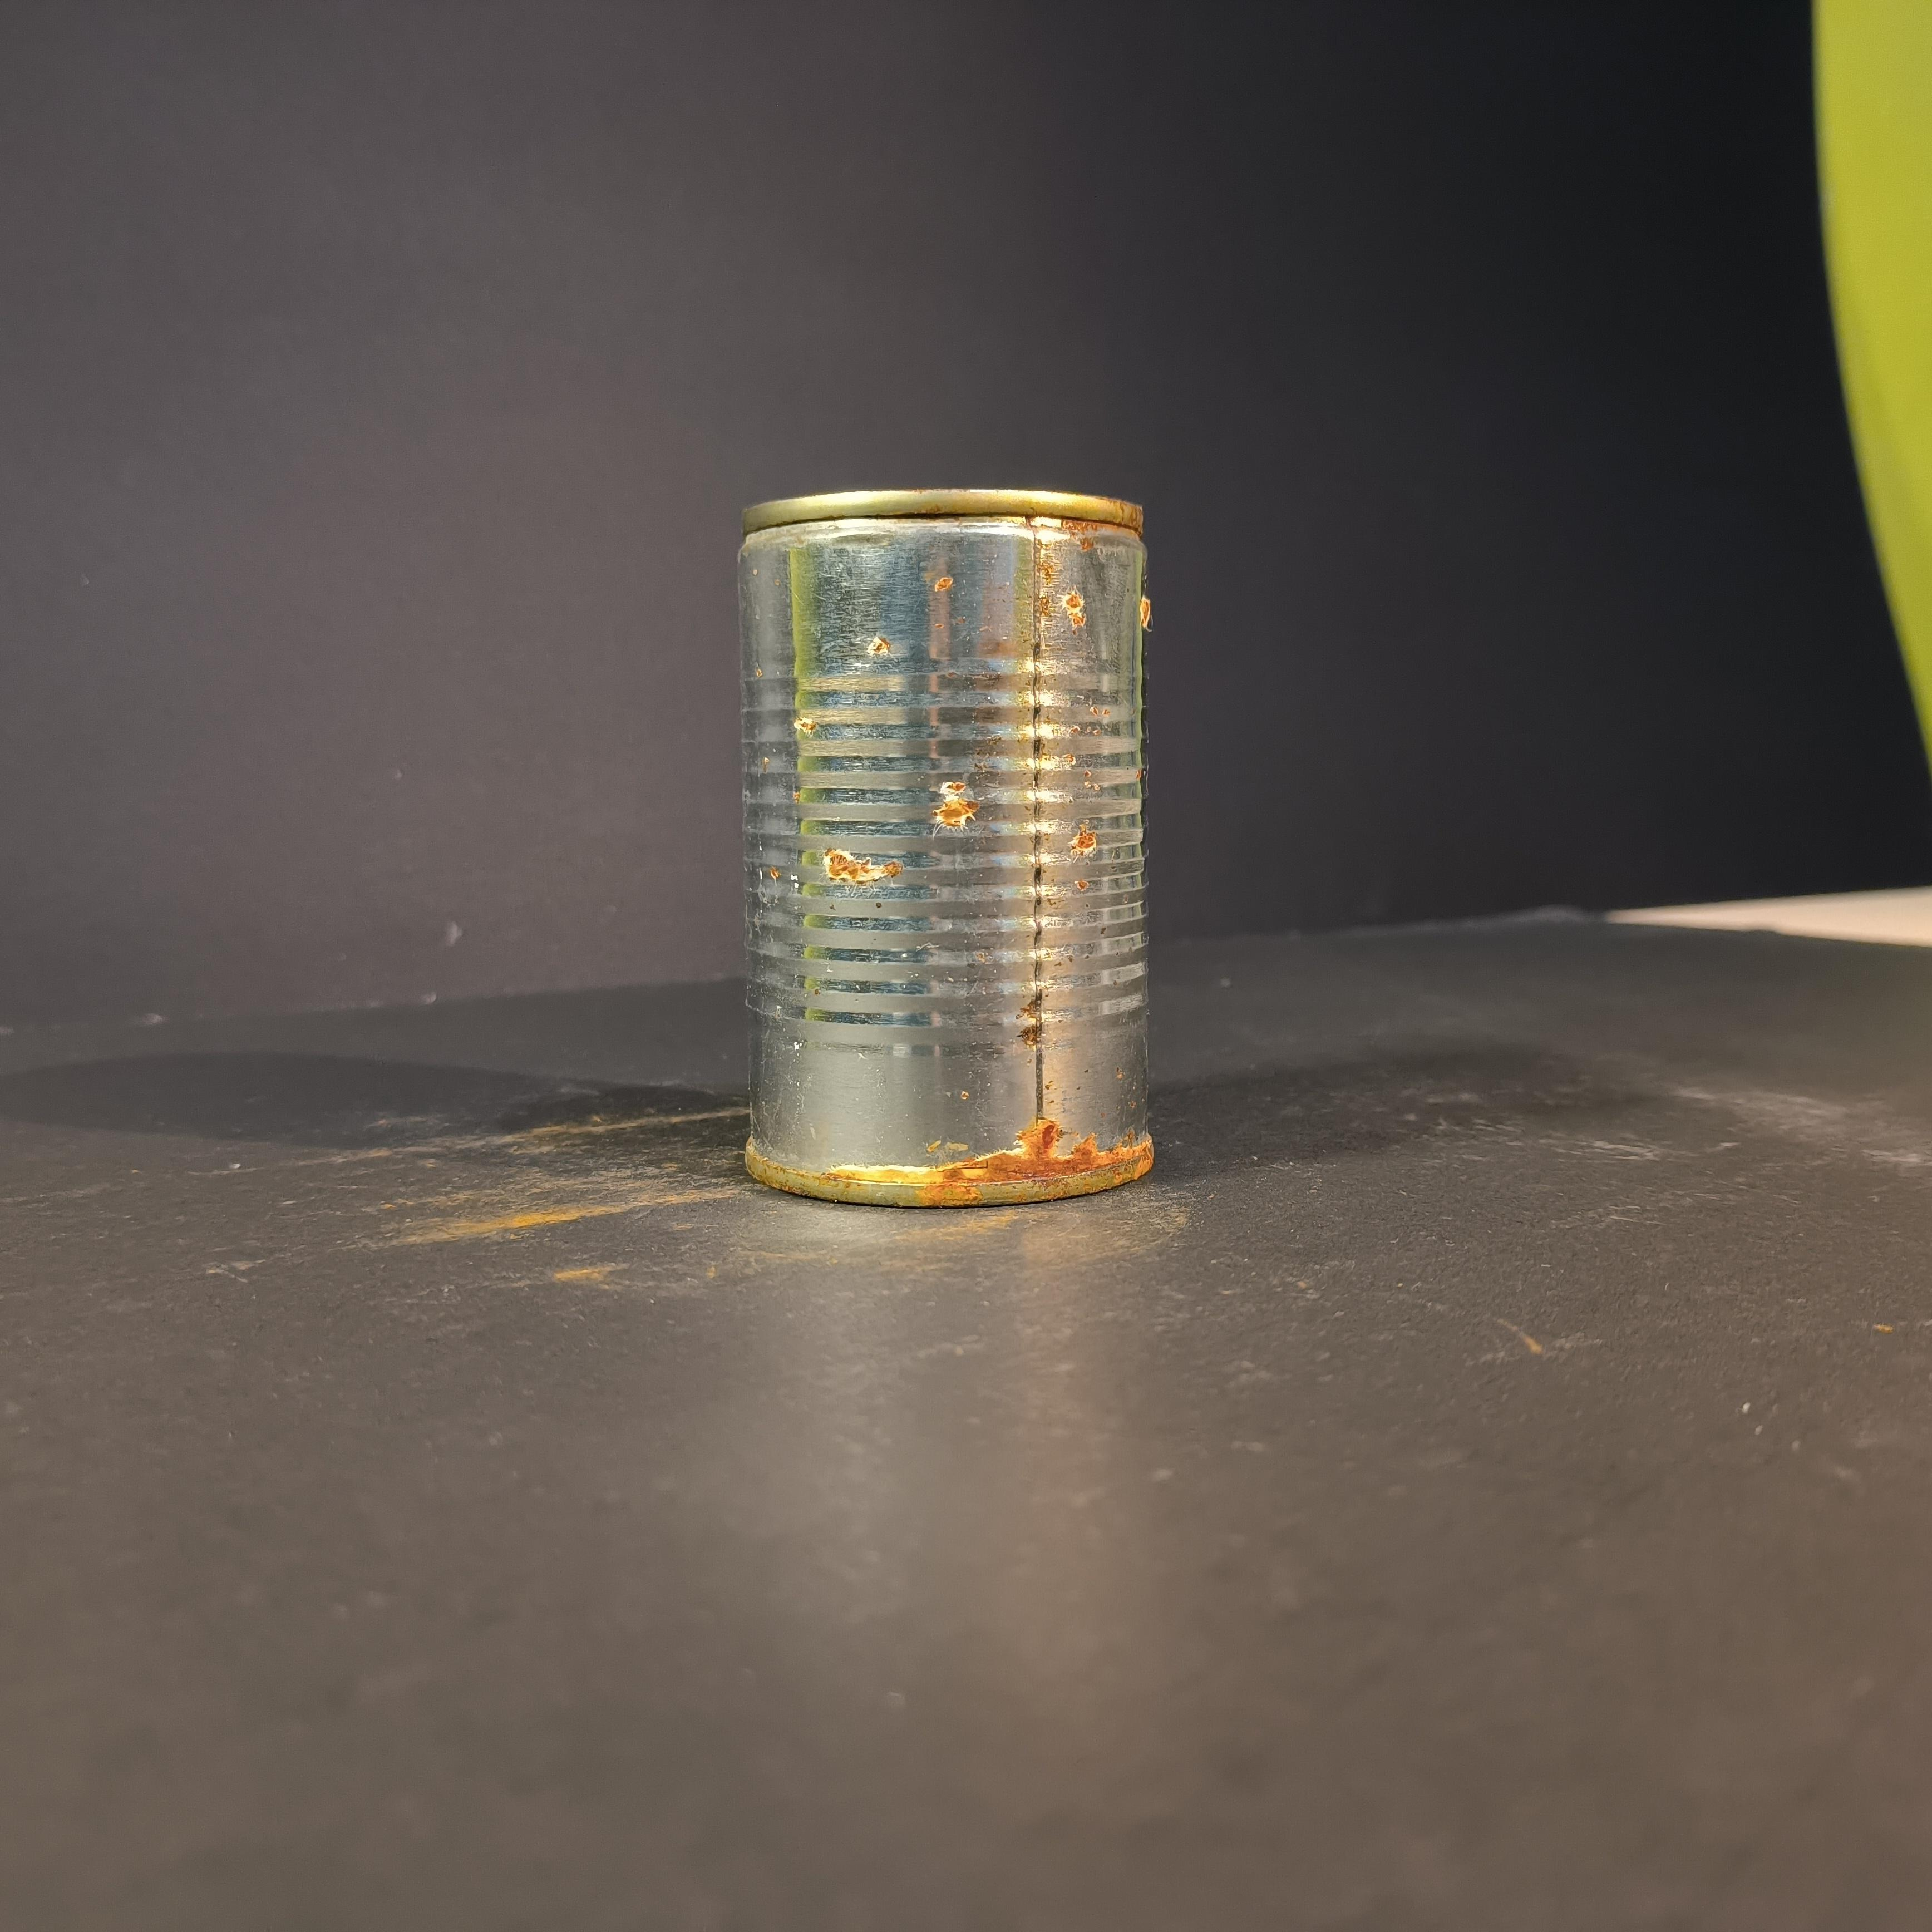Rusted: (704, 485, 1194, 1235)
